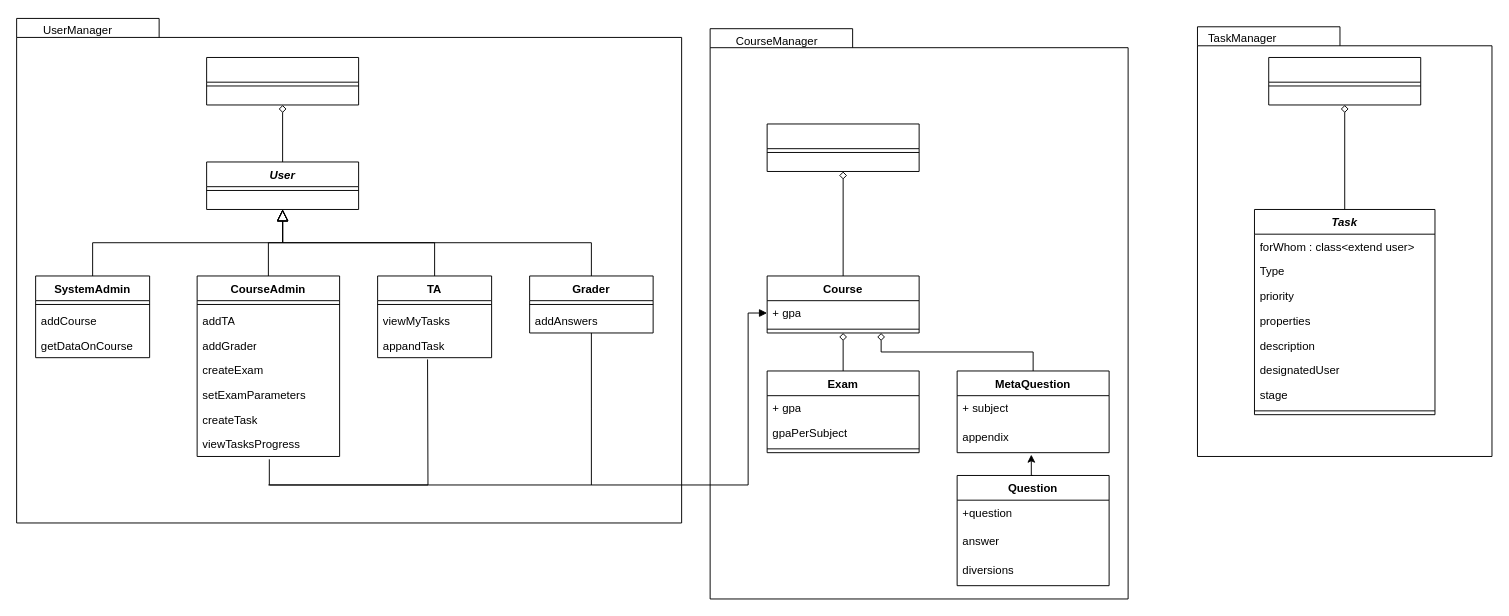
Image size: 1509x616. Some labels were removed from this diagram. Each missing label, with the centre of its shape:
CourseController: (x=842, y=147)
TaskController: (x=1344, y=81)
UserController: (x=282, y=81)
